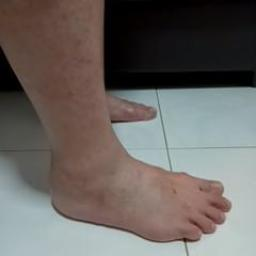Lateral View -Right Foot-: (30, 124, 240, 250)
